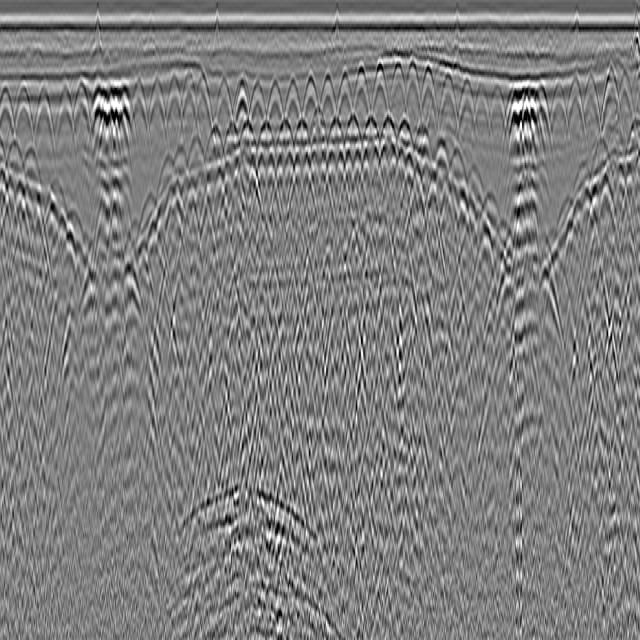hyperbola: (316, 51, 350, 150), (419, 50, 440, 166), (280, 64, 306, 151), (598, 49, 621, 135), (34, 74, 55, 158), (301, 61, 322, 143), (354, 52, 371, 152), (581, 68, 601, 148), (14, 74, 32, 161), (565, 61, 583, 148), (439, 58, 457, 143), (458, 68, 477, 145), (336, 49, 354, 130), (402, 52, 421, 127), (617, 55, 634, 138), (213, 65, 232, 135), (370, 55, 388, 128), (388, 55, 406, 128), (74, 64, 90, 146), (148, 68, 165, 145), (180, 55, 195, 142), (549, 68, 567, 140), (195, 70, 212, 143), (474, 71, 489, 153), (130, 77, 148, 143), (0, 83, 13, 174), (489, 74, 506, 140), (56, 71, 72, 140), (535, 84, 552, 148), (167, 68, 181, 140), (266, 77, 282, 138), (250, 78, 266, 128), (234, 74, 248, 128)
